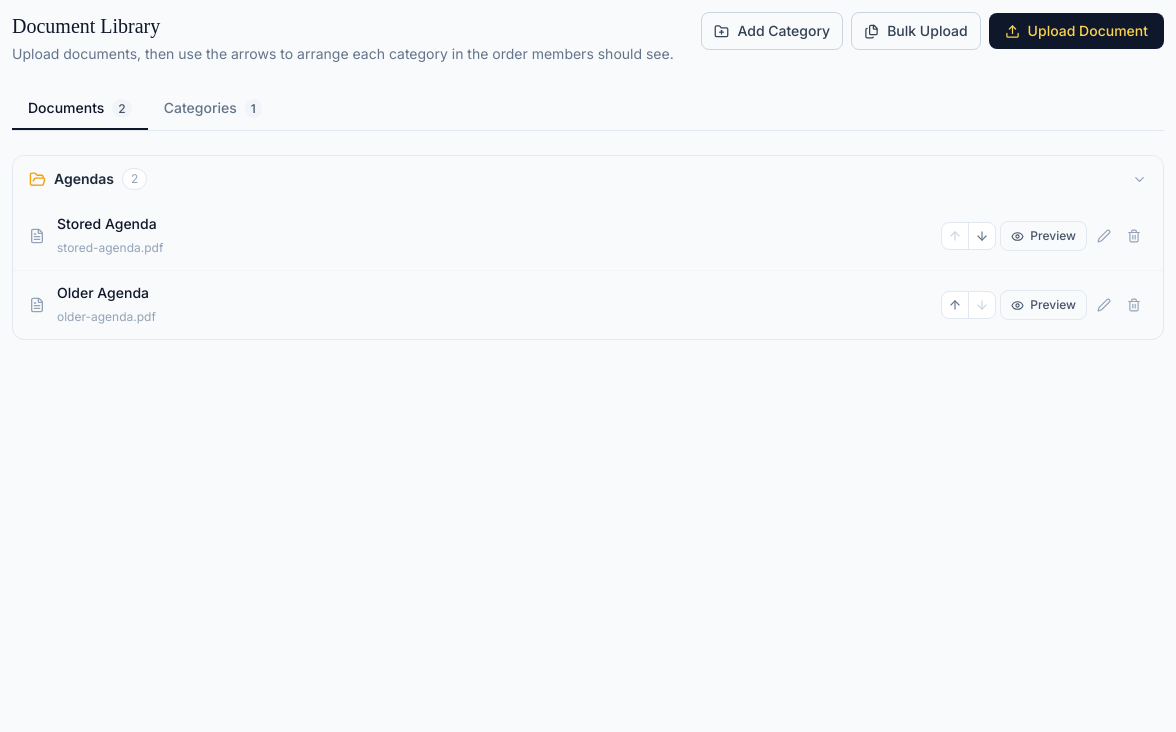
Test: AdminLibraryPage previews › previews individual files in the bulk upload queue
Later steps or results of the test are not shown.
Expected: the text "Stored Agenda" is shown, [57, 214, 163, 234]
Click the button "Bulk Upload": {"x": 916, "y": 31} [851, 12, 981, 50]
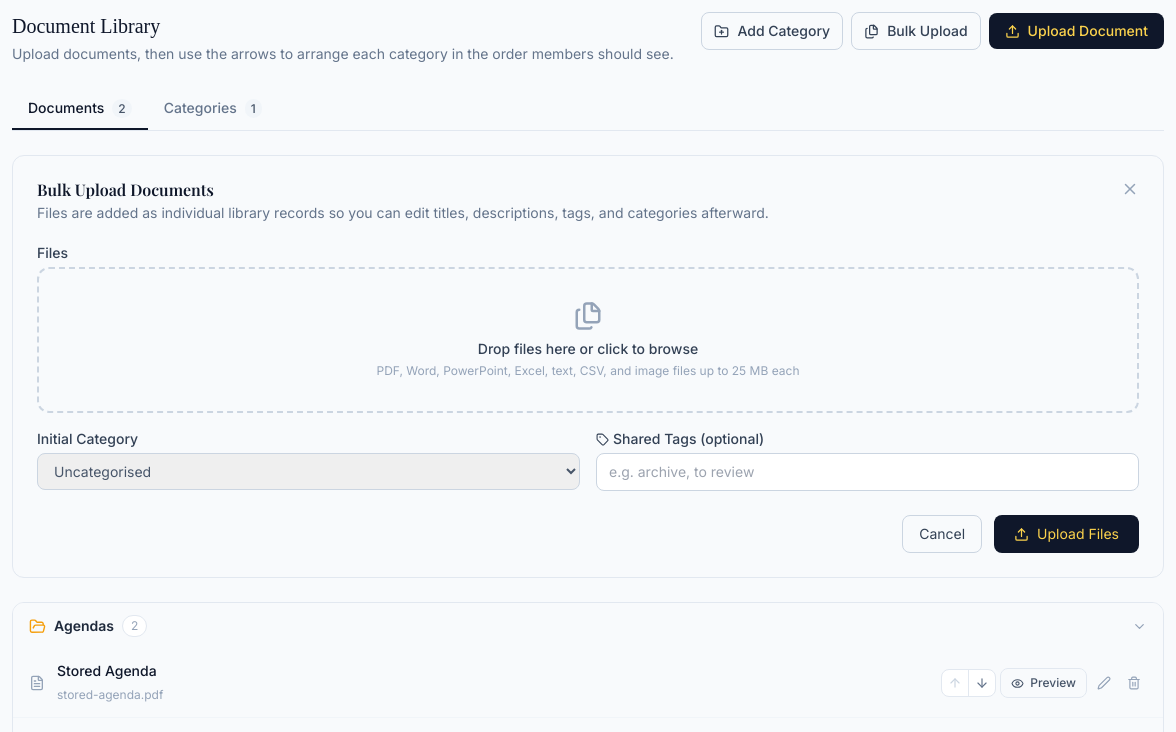
Now the element that starts with "Drop files here or click to browse" is shown, box [37, 267, 1139, 413]
